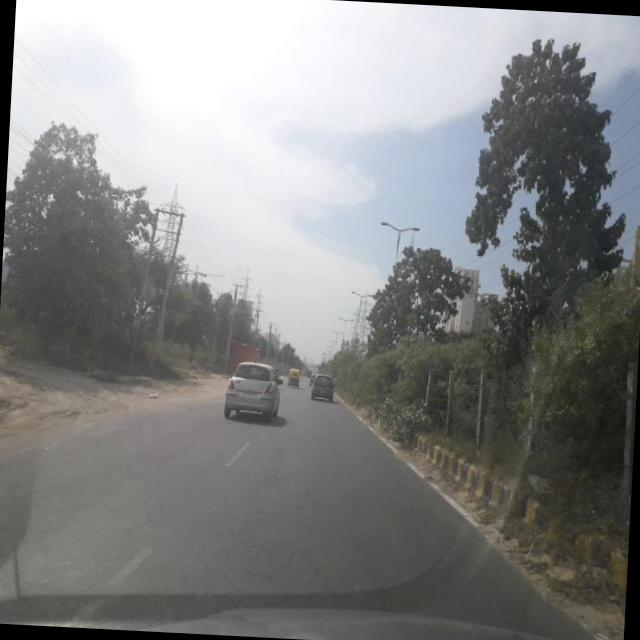crack: (0, 419, 553, 630)
